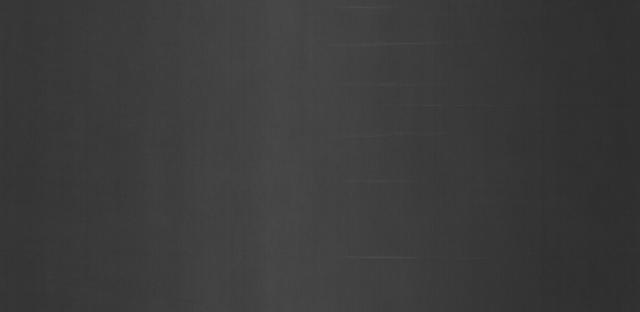waist_folding: (317, 34, 487, 275)
